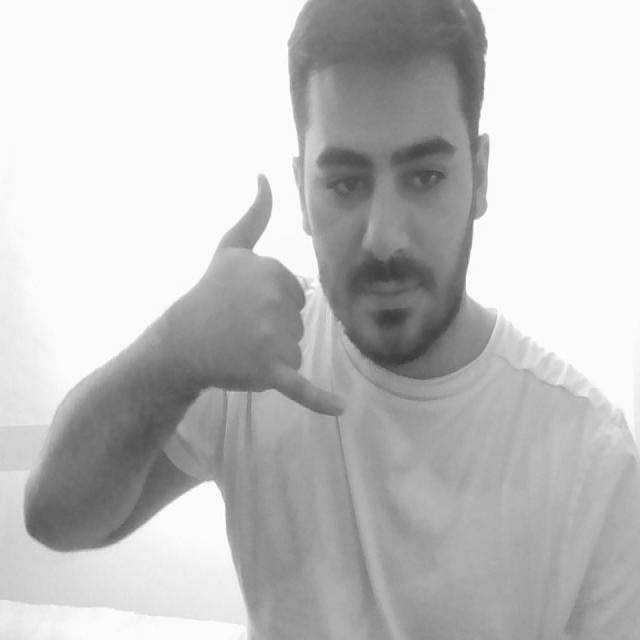Telefon: (196, 164, 332, 420)
